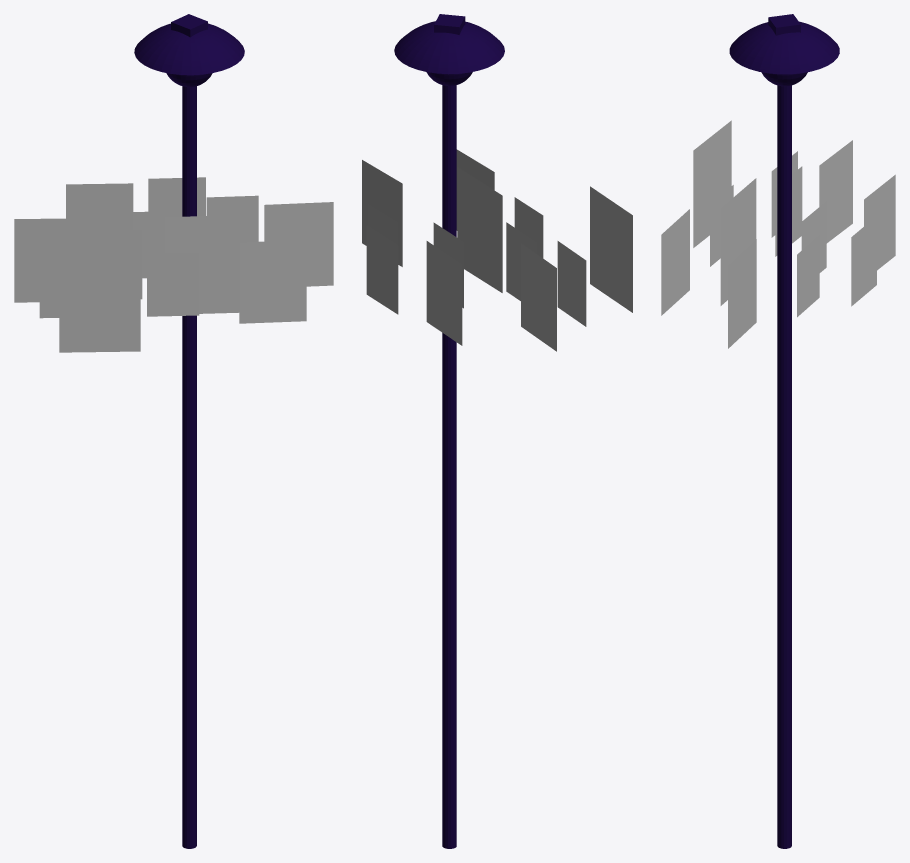
The model's file is lightPole.obj.
The picture shows the model from 3 angles, left to right: view 1: azimuth 30°, elevation 25°; view 2: azimuth 150°, elevation 25°; view 3: azimuth 270°, elevation 25°; orthographic projection.
Visible parts, largest first — view 1: JrMap10_28.005, bg-characters-colors-24, bg-characters-colors-25, bg-characters-colors-24.001, bg-characters-colors-23.001, bg-characters-colors-23, bg-characters-colors-27.001, bg-characters-colors-25.001, bg-characters-colors-28.001, bg-characters-colors-26.001, bg-characters-colors-26, bg-characters-colors-28 (+1 smaller); view 2: JrMap10_28.005, bg-characters-colors-24.001, bg-characters-colors-24, bg-characters-colors-23, bg-characters-colors-25.001, bg-characters-colors-26, bg-characters-colors-23.001, bg-characters-colors-28.001, bg-characters-colors-26.001, bg-characters-colors-27.001, bg-characters-colors-25, bg-characters-colors-28 (+1 smaller); view 3: JrMap10_28.005, bg-characters-colors-24, bg-characters-colors-24.001, bg-characters-colors-23, bg-characters-colors-23.001, bg-characters-colors-25, bg-characters-colors-25.001, bg-characters-colors-26, bg-characters-colors-27, bg-characters-colors-28, bg-characters-colors-26.001, bg-characters-colors-27.001 (+1 smaller).
Boxes of the visible parts, left/top/right/bottom form: JrMap10_28.005: left=134, top=14, right=244, bottom=848; bg-characters-colors-24: left=59, top=254, right=140, bottom=352; bg-characters-colors-25: left=239, top=240, right=306, bottom=323; bg-characters-colors-24.001: left=165, top=215, right=245, bottom=313; bg-characters-colors-23.001: left=264, top=202, right=333, bottom=286; bg-characters-colors-23: left=14, top=218, right=83, bottom=302; bg-characters-colors-27.001: left=147, top=252, right=199, bottom=316; bg-characters-colors-25.001: left=66, top=183, right=133, bottom=251; bg-characters-colors-28.001: left=39, top=251, right=94, bottom=318; bg-characters-colors-26.001: left=84, top=230, right=142, bottom=299; bg-characters-colors-26: left=148, top=177, right=205, bottom=216; bg-characters-colors-28: left=133, top=211, right=182, bottom=278; JrMap10_28.005: left=394, top=14, right=504, bottom=848; bg-characters-colors-24.001: left=457, top=167, right=502, bottom=292; bg-characters-colors-24: left=590, top=186, right=632, bottom=312; bg-characters-colors-23: left=521, top=243, right=556, bottom=351; bg-characters-colors-25.001: left=426, top=241, right=462, bottom=345; bg-characters-colors-26: left=366, top=225, right=398, bottom=314; bg-characters-colors-23.001: left=362, top=160, right=402, bottom=266; bg-characters-colors-28.001: left=557, top=241, right=586, bottom=326; bg-characters-colors-26.001: left=506, top=222, right=537, bottom=300; bg-characters-colors-27.001: left=514, top=197, right=543, bottom=258; bg-characters-colors-25: left=456, top=149, right=494, bottom=230; bg-characters-colors-28: left=433, top=222, right=463, bottom=308; JrMap10_28.005: left=729, top=14, right=839, bottom=848; bg-characters-colors-24: left=693, top=120, right=731, bottom=247; bg-characters-colors-24.001: left=720, top=178, right=756, bottom=305; bg-characters-colors-23: left=819, top=140, right=852, bottom=243; bg-characters-colors-23.001: left=728, top=239, right=756, bottom=348; bg-characters-colors-25: left=661, top=209, right=689, bottom=315; bg-characters-colors-25.001: left=864, top=174, right=895, bottom=270; bg-characters-colors-26: left=851, top=216, right=876, bottom=306; bg-characters-colors-27: left=797, top=235, right=819, bottom=317; bg-characters-colors-28: left=801, top=201, right=826, bottom=272; bg-characters-colors-26.001: left=775, top=166, right=802, bottom=256; bg-characters-colors-27.001: left=710, top=185, right=733, bottom=266.
Bounding box in the file's own units: 5.36 × 15.51 × 3.99.
